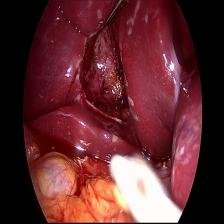Grasper: (96, 1, 130, 33)
